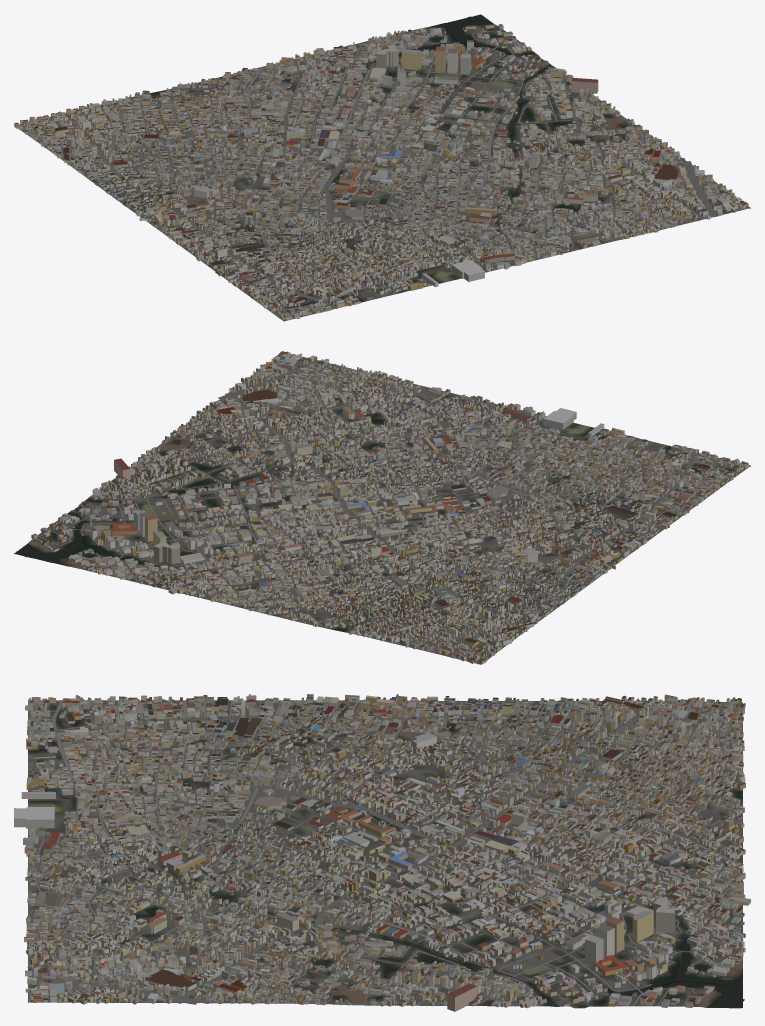
The picture shows the model from 3 angles, top to bottom: view 1: azimuth 30°, elevation 25°; view 2: azimuth 150°, elevation 25°; view 3: azimuth 270°, elevation 25°; orthographic projection. The views are drawn at different scales.
Visible parts, largest first — view 1: buildings, ground, roads, water; view 2: buildings, ground, roads, water; view 3: buildings, ground, roads, water.
Part boxes in pixels (x1=…): buildings: x1=14, y1=24, x2=748, y2=320; ground: x1=14, y1=15, x2=750, y2=321; roads: x1=19, y1=30, x2=750, y2=319; water: x1=398, y1=14, x2=550, y2=247; buildings: x1=31, y1=351, x2=748, y2=664; ground: x1=14, y1=354, x2=750, y2=664; roads: x1=37, y1=354, x2=743, y2=664; water: x1=15, y1=420, x2=489, y2=565; buildings: x1=14, y1=694, x2=750, y2=1011; ground: x1=28, y1=700, x2=742, y2=1008; roads: x1=27, y1=700, x2=743, y2=1006; water: x1=82, y1=860, x2=744, y2=1008.
Size of the model in its own units: 1439 by 67.86 by 1443.
